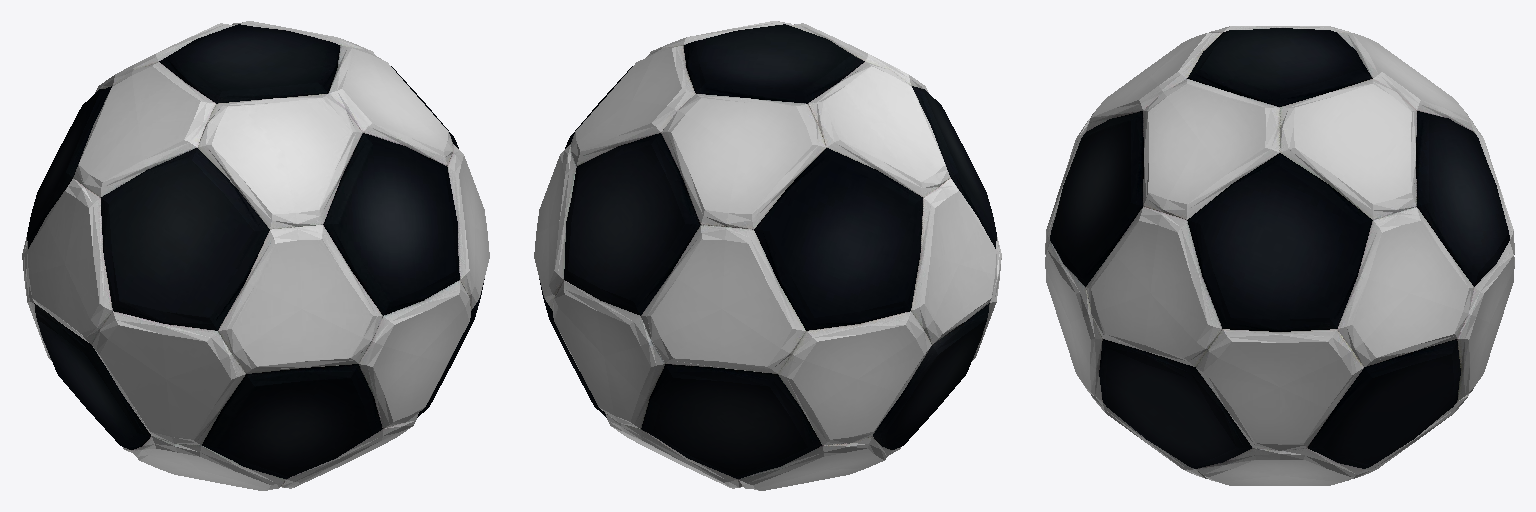
The picture shows the model from 3 angles: view 1: azimuth 30°, elevation 25°; view 2: azimuth 150°, elevation 25°; view 3: azimuth 270°, elevation 25°; orthographic projection.
Visible parts, largest first — view 1: Icosphere_Icosphere.004; view 2: Icosphere_Icosphere.004; view 3: Icosphere_Icosphere.004.
Boxes of the visible parts, <box> form: Icosphere_Icosphere.004: <box>22,21,489,490</box>; Icosphere_Icosphere.004: <box>534,21,1001,490</box>; Icosphere_Icosphere.004: <box>1045,26,1514,485</box>.
Bounding box in the file's own units: 1.73 × 1.64 × 1.77.
2 materials, 1 textured.